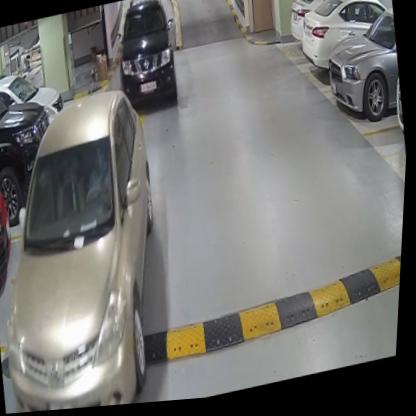np: (48, 396, 81, 412), (140, 82, 159, 95)
